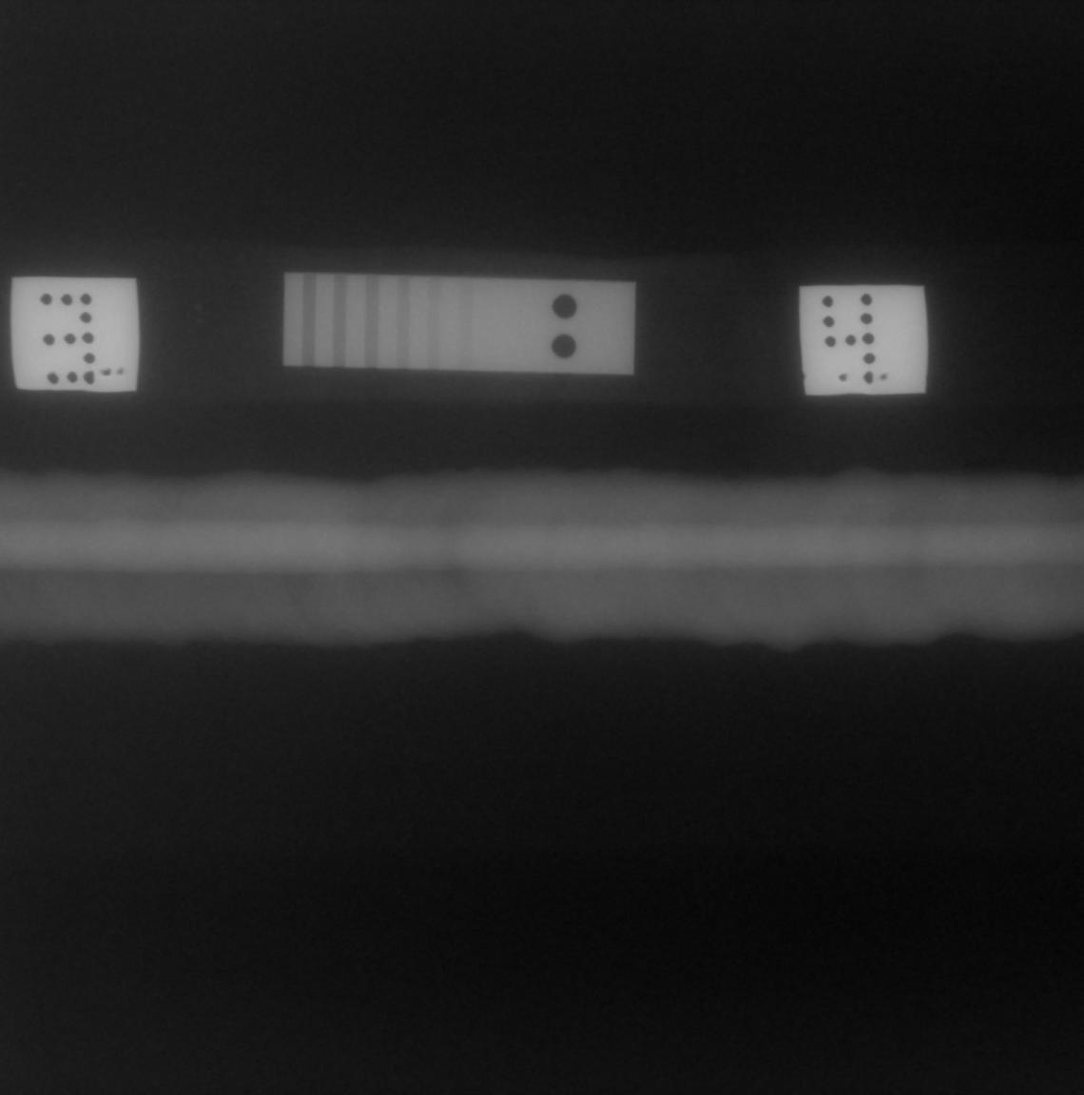Reference Standard 2: (283, 272, 636, 374)
